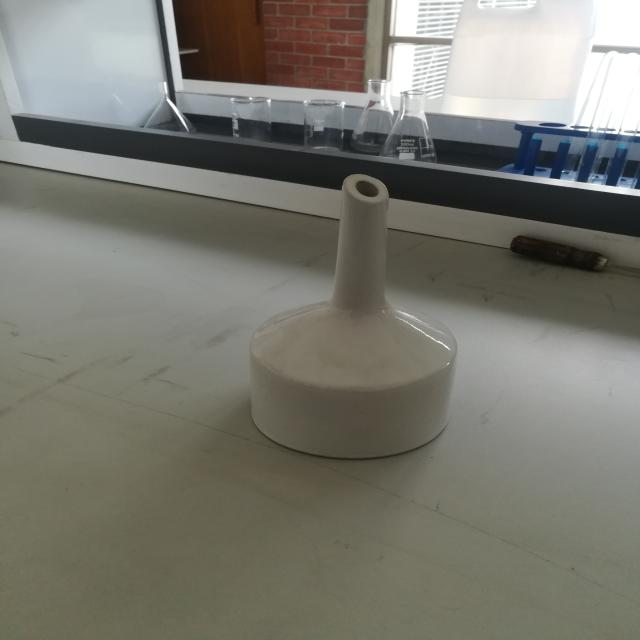Buchner_Funnel: (213, 142, 528, 490)
